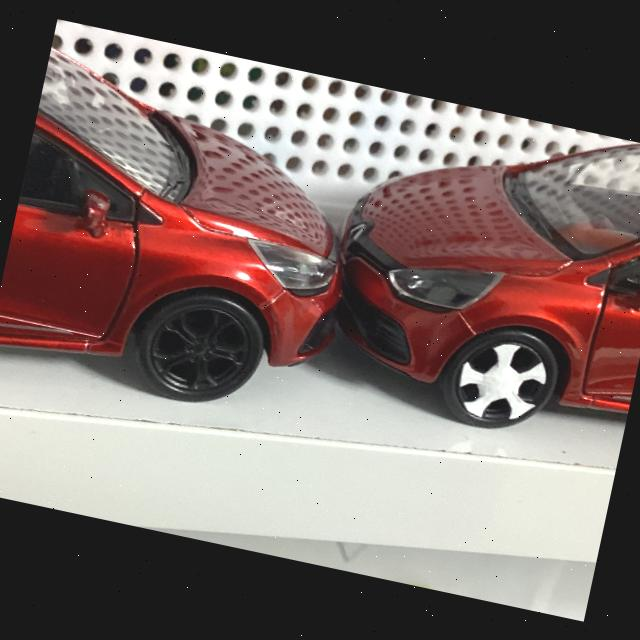Dogru_Jant: (144, 297, 255, 400)
Yanlis_Jant: (451, 332, 553, 432)
